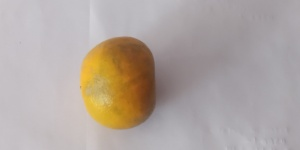BAD: (79, 35, 156, 130)
